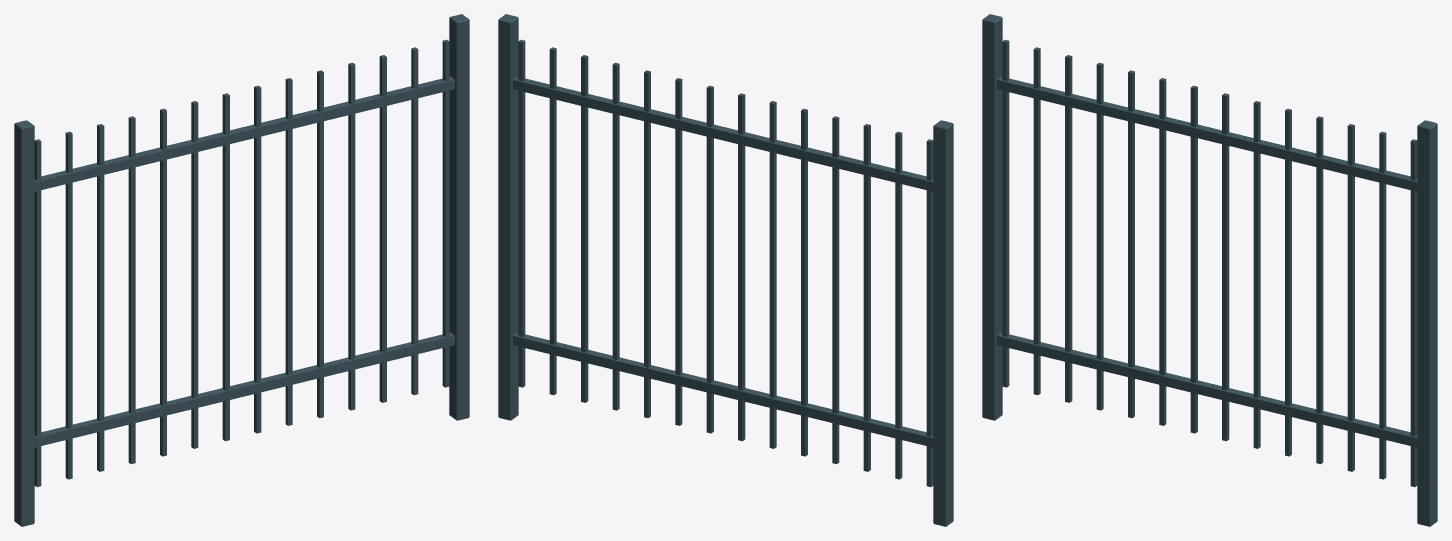
Rendered from rail_fence_2m.glb.
3 renders of one model, left to right at view 1: azimuth 30°, elevation 25°; view 2: azimuth 150°, elevation 25°; view 3: azimuth 330°, elevation 25°, orthographic.
Parts seen in each view (by area): view 1: rail_fence_2m__VVK_painted_steel; view 2: rail_fence_2m__VVK_painted_steel; view 3: rail_fence_2m__VVK_painted_steel.
Boxes of the visible parts, x1=… form: rail_fence_2m__VVK_painted_steel: x1=14, y1=14, x2=469, y2=526; rail_fence_2m__VVK_painted_steel: x1=498, y1=14, x2=953, y2=526; rail_fence_2m__VVK_painted_steel: x1=982, y1=14, x2=1437, y2=526.
Bounding box in the file's own units: 2 × 1.7 × 0.06.
